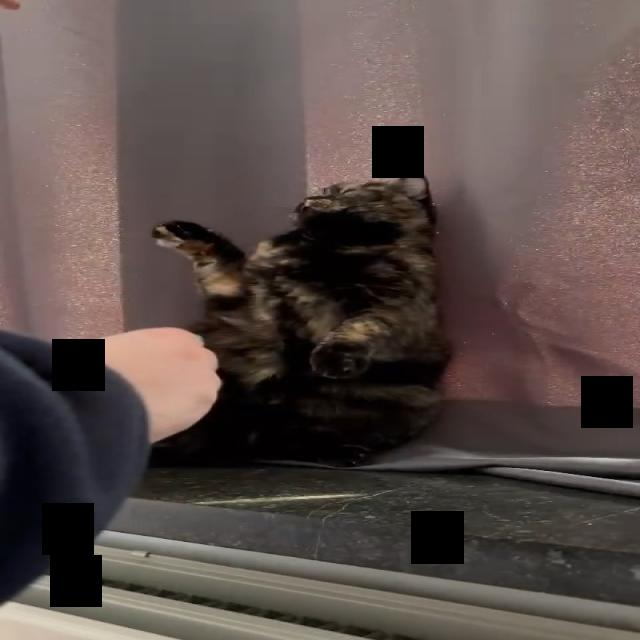authorized: (148, 167, 453, 468)
